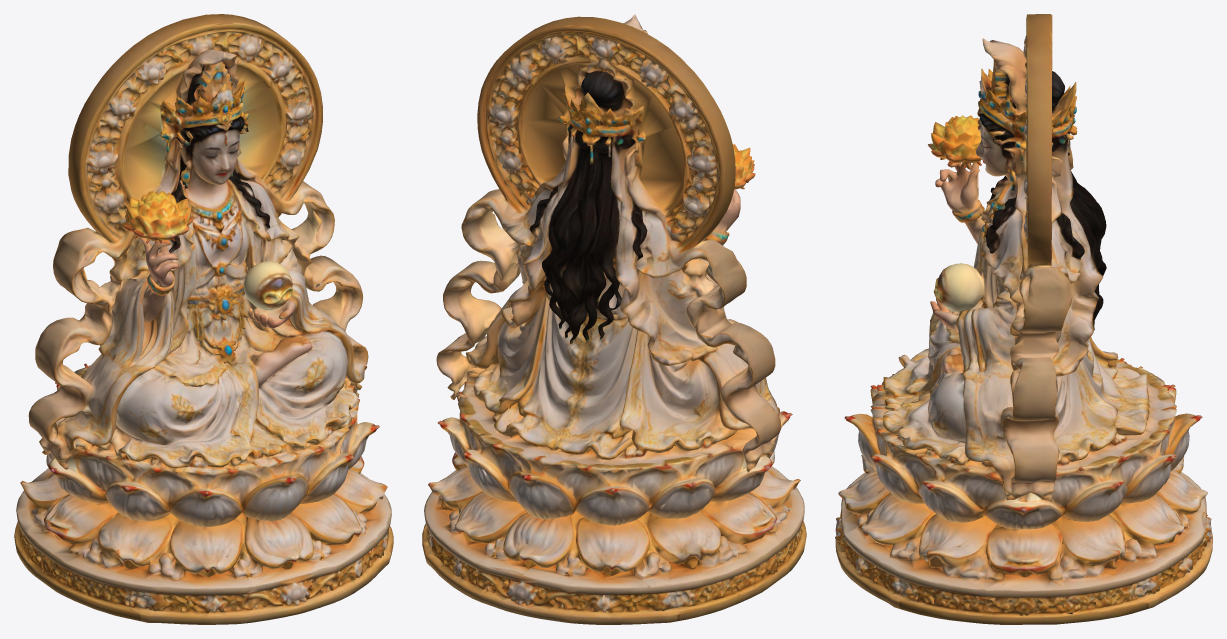
The picture shows the model from 3 angles, left to right: view 1: azimuth 30°, elevation 25°; view 2: azimuth 150°, elevation 25°; view 3: azimuth 270°, elevation 25°; orthographic projection.
Visible parts, largest first — view 1: owner-collection20-17; view 2: owner-collection20-17; view 3: owner-collection20-17.
Part boxes in pixels (x1,y1,x2,y2): owner-collection20-17: (14,14,393,624); owner-collection20-17: (422,14,806,624); owner-collection20-17: (835,14,1212,624).
Bounding box in the file's own units: 0.6458 × 1 × 0.6548.
Materials: 1 (1 with a texture image).
